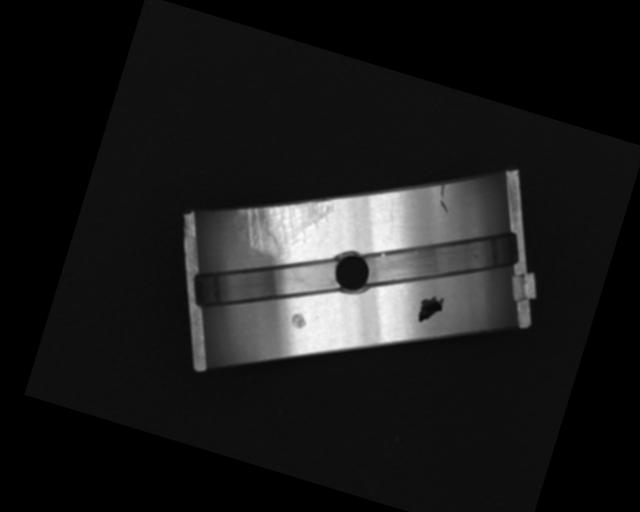blot: (414, 289, 447, 327)
bruise: (289, 310, 308, 330)
gap: (359, 197, 524, 326), (186, 223, 347, 344)
hole: (328, 245, 378, 299)
nick: (434, 181, 456, 212), (381, 200, 401, 234)
scratch: (225, 173, 337, 270)
